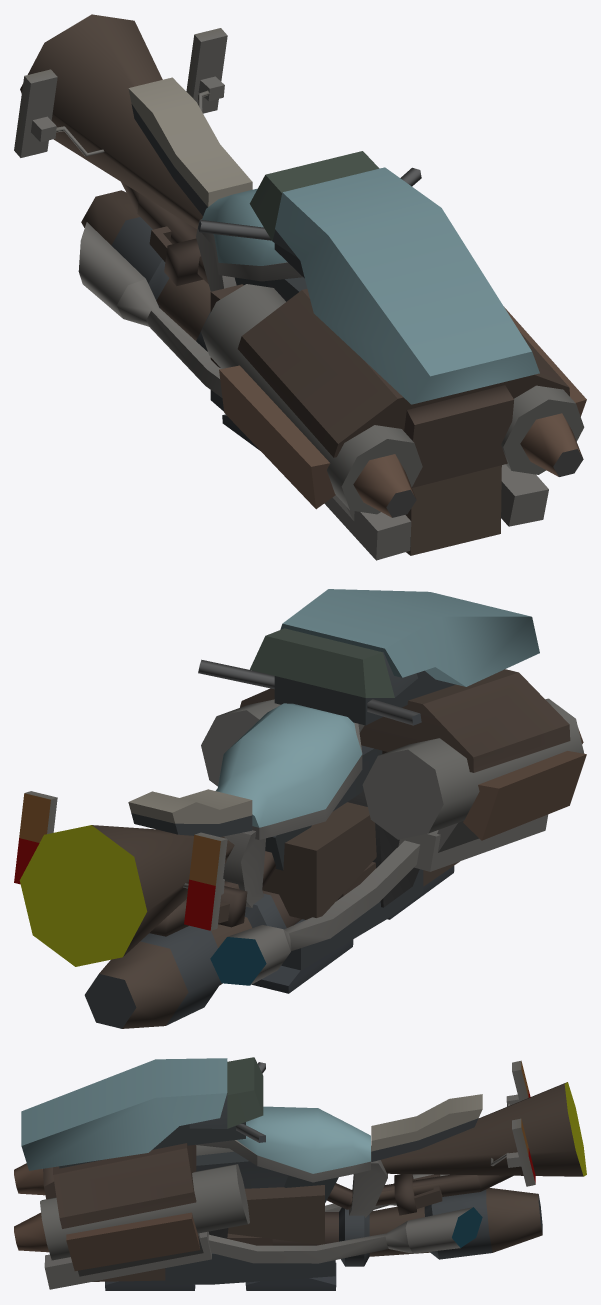
Rendered from airbike.fbx.
3 views of the same model, one above another, from view 1: azimuth 30°, elevation 25°; view 2: azimuth 150°, elevation 25°; view 3: azimuth 270°, elevation 25° (orthographic). The views are drawn at different scales.
Parts seen in each view (by area): view 1: loc_xxs_fbl_airbike_lowres_LOD1; view 2: loc_xxs_fbl_airbike_lowres_LOD1; view 3: loc_xxs_fbl_airbike_lowres_LOD1.
Part boxes in pixels (x1,y1,x2,y2): loc_xxs_fbl_airbike_lowres_LOD1: [14, 14, 586, 560]; loc_xxs_fbl_airbike_lowres_LOD1: [14, 589, 586, 1028]; loc_xxs_fbl_airbike_lowres_LOD1: [14, 1057, 586, 1290].
Size of the model in its own units: 1.26 by 1.27 by 3.2.
